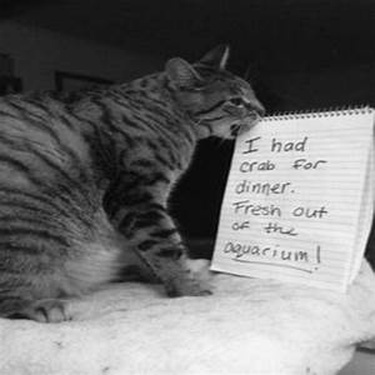cat: (1, 42, 269, 325)
